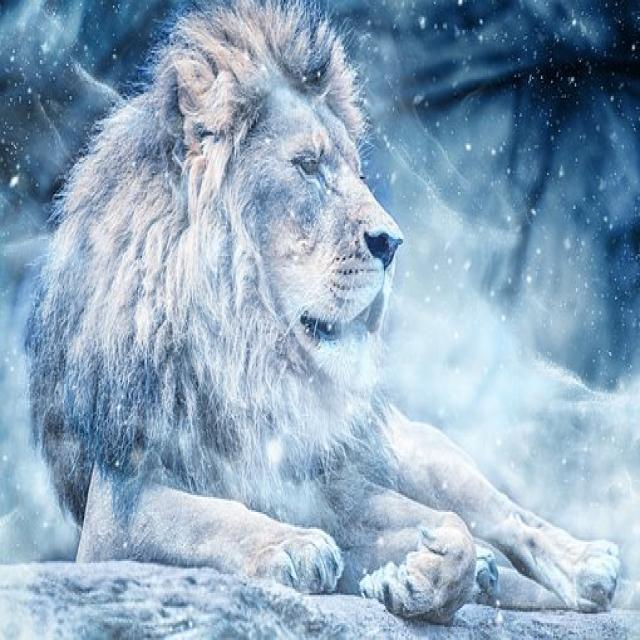Lion: (38, 15, 614, 614)
